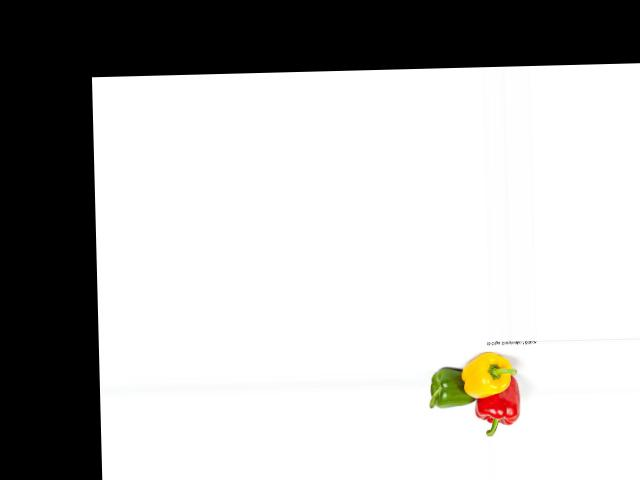bell_pepper: (473, 378, 525, 436)
